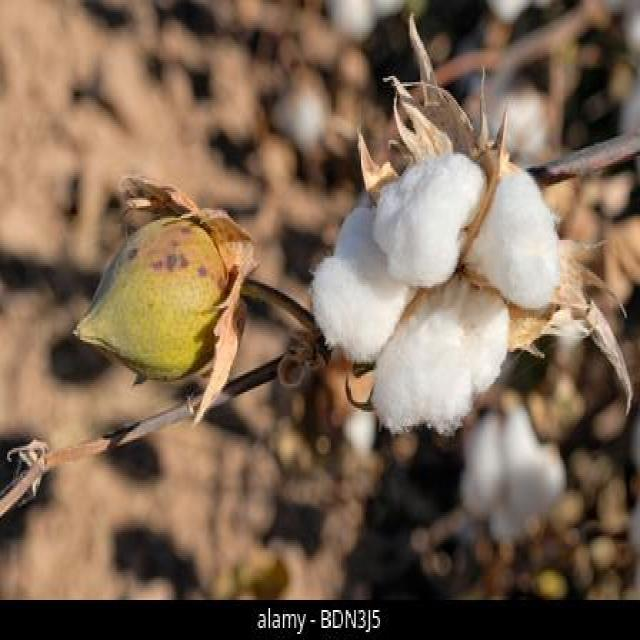Late_blight: (308, 8, 639, 452)
